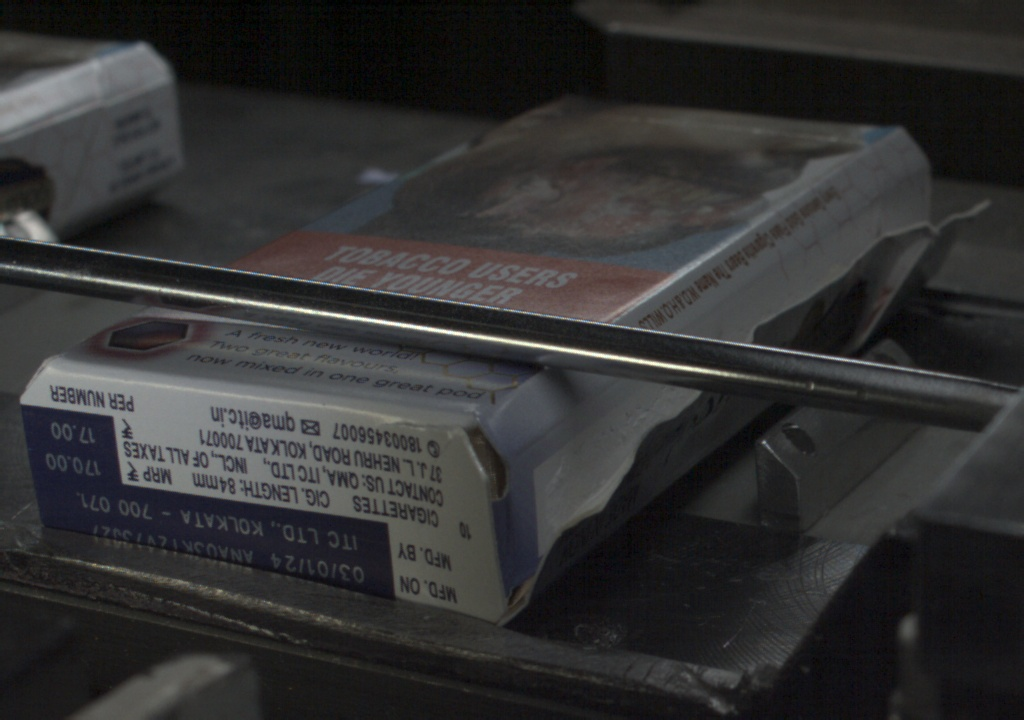g_label: (30, 482, 394, 597)
ng_bottom: (431, 413, 509, 516)
ng_lmiter: (514, 436, 609, 563), (733, 254, 819, 332), (614, 388, 687, 469), (815, 203, 893, 278)
ng_miter: (899, 156, 974, 257)
price: (25, 414, 119, 483)
